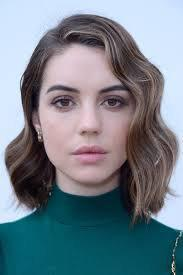Sober: (41, 57, 132, 175)
